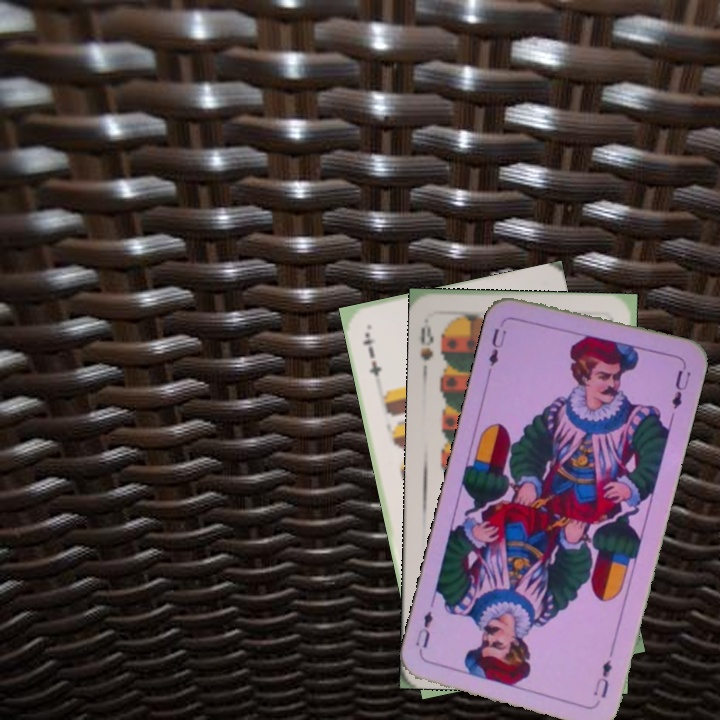E7: (359, 328, 384, 380)
EU: (484, 317, 509, 369), (589, 655, 615, 701)
S8: (416, 319, 436, 363)
